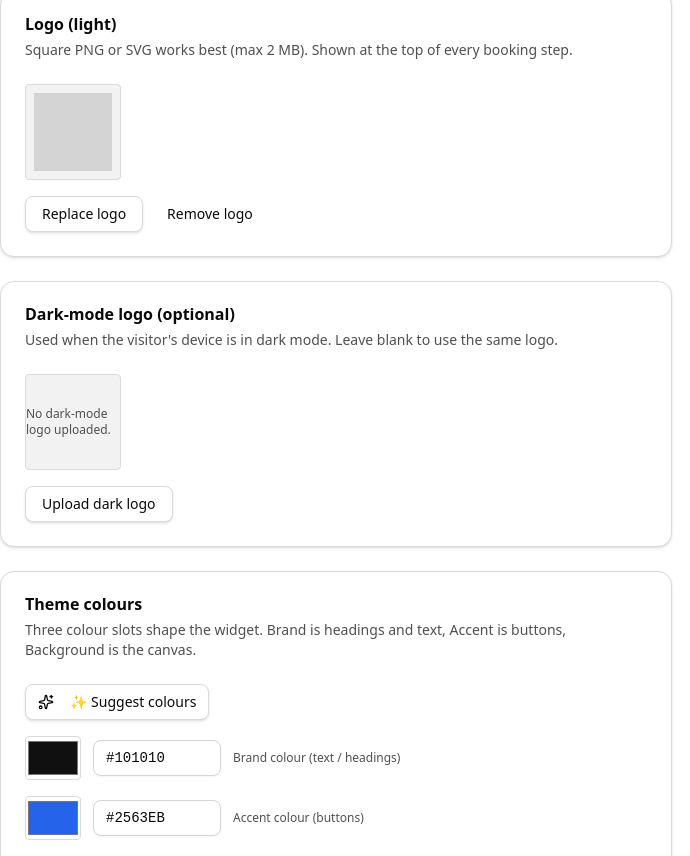
Test: BrandingSettings — Suggest colours from logo (landr-sl7k) › clicking Suggest fills the three colour fields (non-destructive)
The width and height of the screenshot is (690, 856).
Click the button with aria-label "Suggest theme colours from your uploaded logo".
click(117, 702)  # box [25,684,209,720]
(page scrolled)
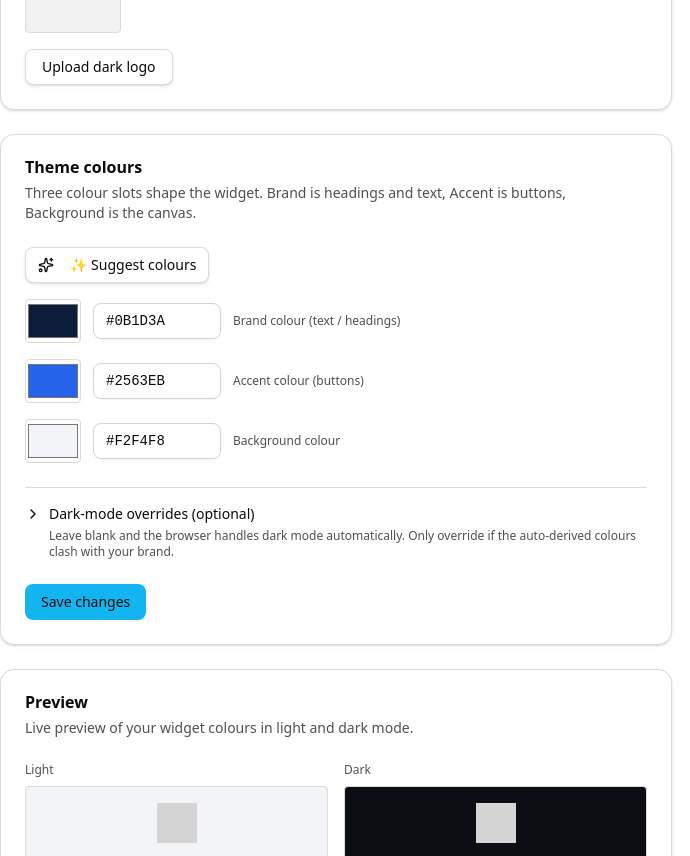
Expected: the colour field named "Accent colour (buttons)" holds "#2563eb", [25,359,81,403]
Now the colour field named "Brand colour (text / headings)" holds "#0b1d3a", box [25,299,81,343]
Now the colour field named "Background colour" holds "#f2f4f8", box [25,419,81,463]
